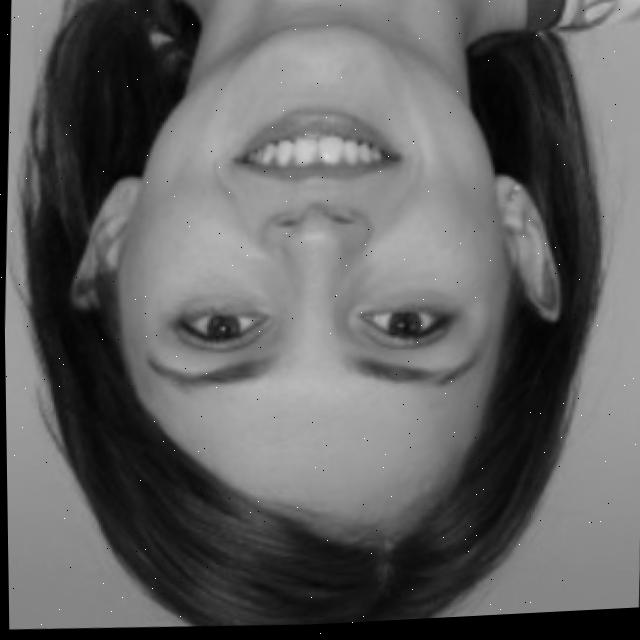happy: (26, 0, 598, 639)
